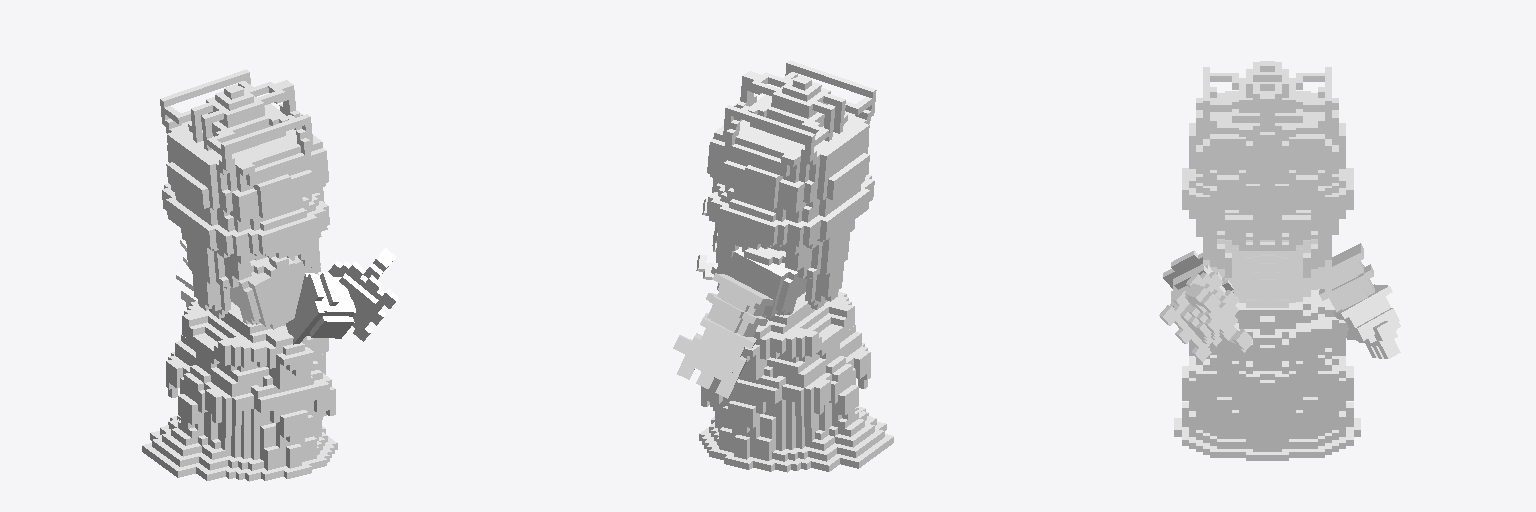
File: d3_grab.obj
3 views of the same model, side by side, from view 1: azimuth 30°, elevation 25°; view 2: azimuth 150°, elevation 25°; view 3: azimuth 270°, elevation 25° (orthographic).
Parts seen in each view (by area): view 1: Model; view 2: Model; view 3: Model.
Boxes of the visible parts, x1,y1,x2,y2 form: Model: [142, 69, 398, 481]; Model: [673, 60, 893, 472]; Model: [1159, 61, 1400, 460].
Bounding box in the file's own units: 32.97 × 55.23 × 33.83.